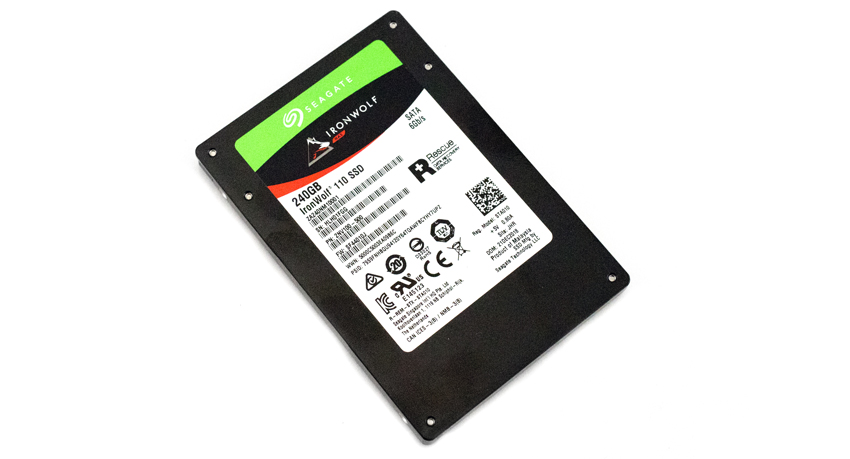seagate-hdd-240gb: (182, 9, 631, 441)
